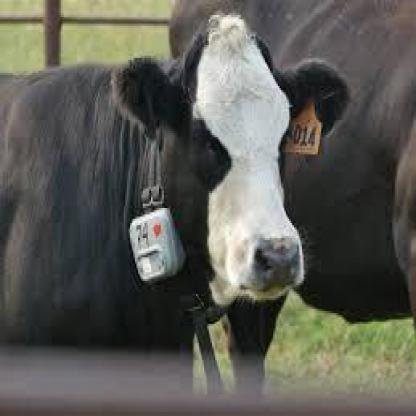cow: (0, 14, 352, 396), (168, 1, 416, 395)
